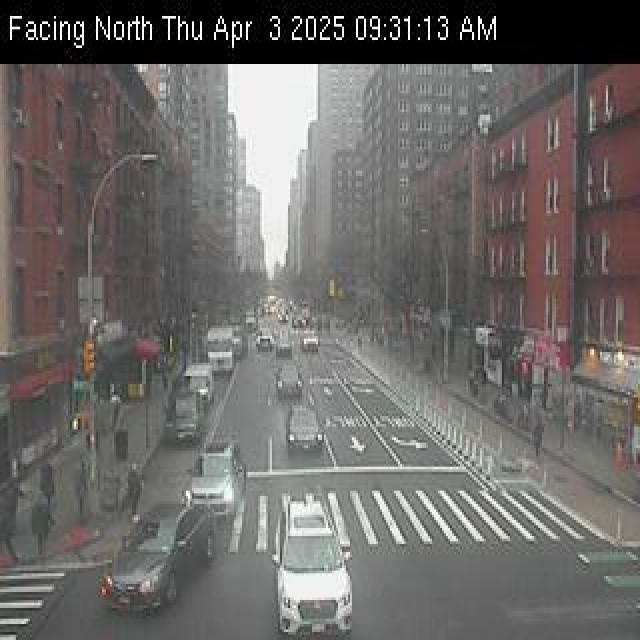open parking: (186, 324, 246, 396)
